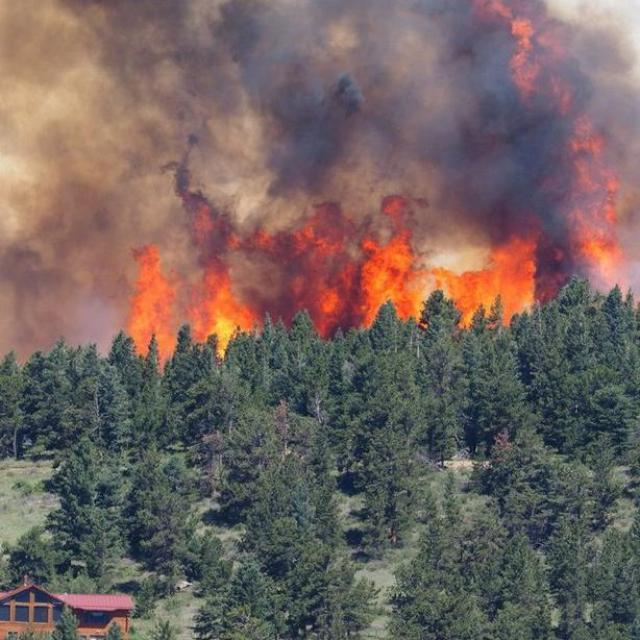Fire: (126, 186, 640, 364), (496, 0, 640, 184)
Smoke: (125, 0, 495, 186), (0, 0, 124, 369)
